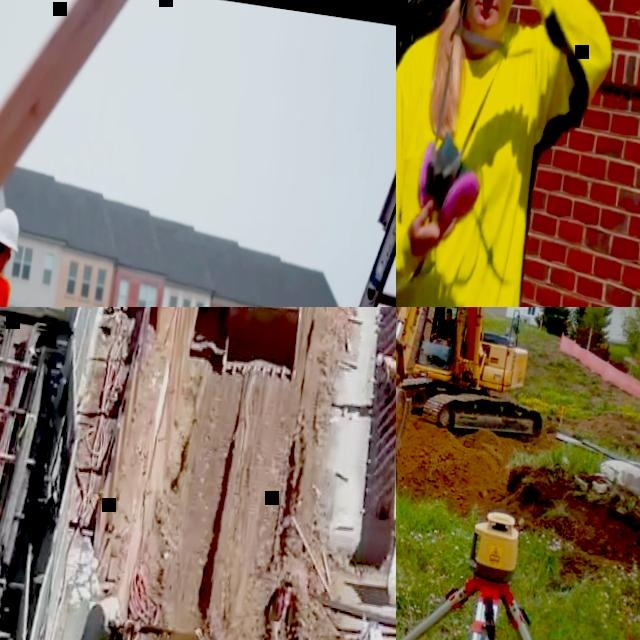Hardhat: (0, 203, 23, 253), (374, 351, 382, 364), (444, 307, 452, 313)
Mask: (408, 126, 486, 238)
NO-Mask: (459, 0, 510, 39), (444, 315, 450, 321)
NO-Safety Vest: (396, 9, 556, 307), (437, 320, 453, 340)
Person: (396, 0, 638, 307), (255, 571, 294, 640), (428, 307, 456, 344), (371, 350, 396, 387)
machinery: (396, 307, 573, 500), (217, 307, 311, 385)
